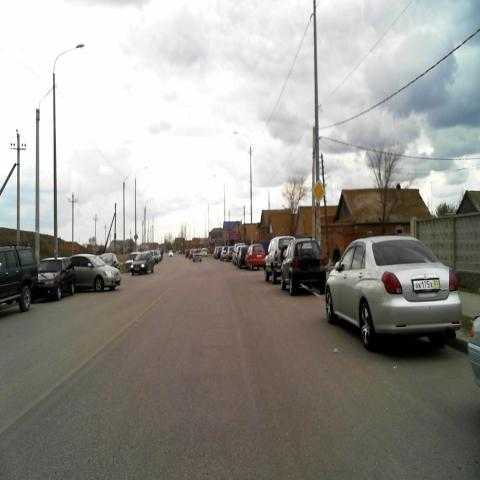2_1: (311, 177, 326, 204)
